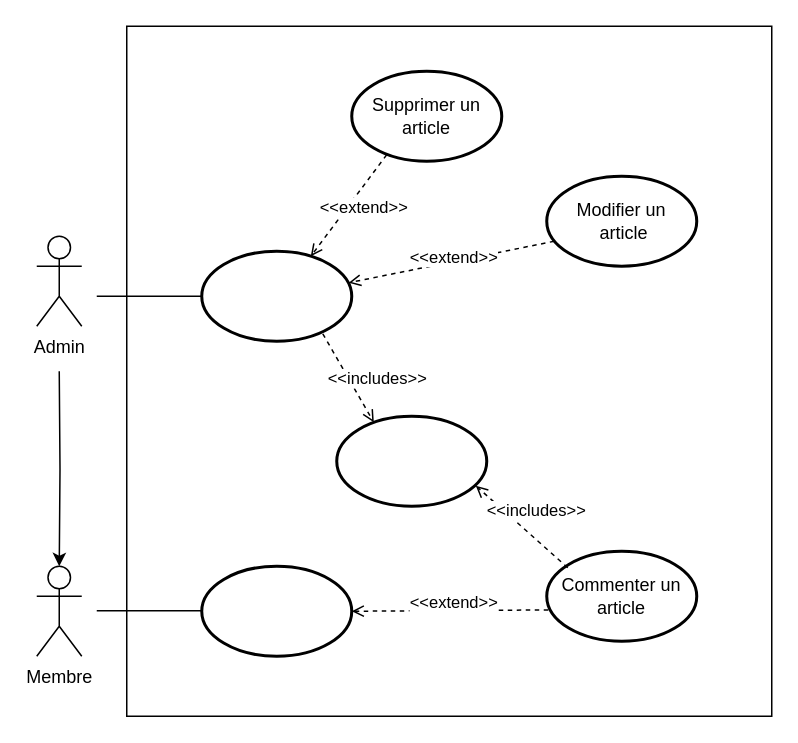
Image size: 798x743. Some labels were removed from this diagram. The box of each missing label's shape, as (x1, y1, x2, y2) in pixels:
Consulter un article: (200, 564, 352, 657)
Créer un article: (200, 249, 352, 342)
S'authentifier: (334, 414, 488, 507)
